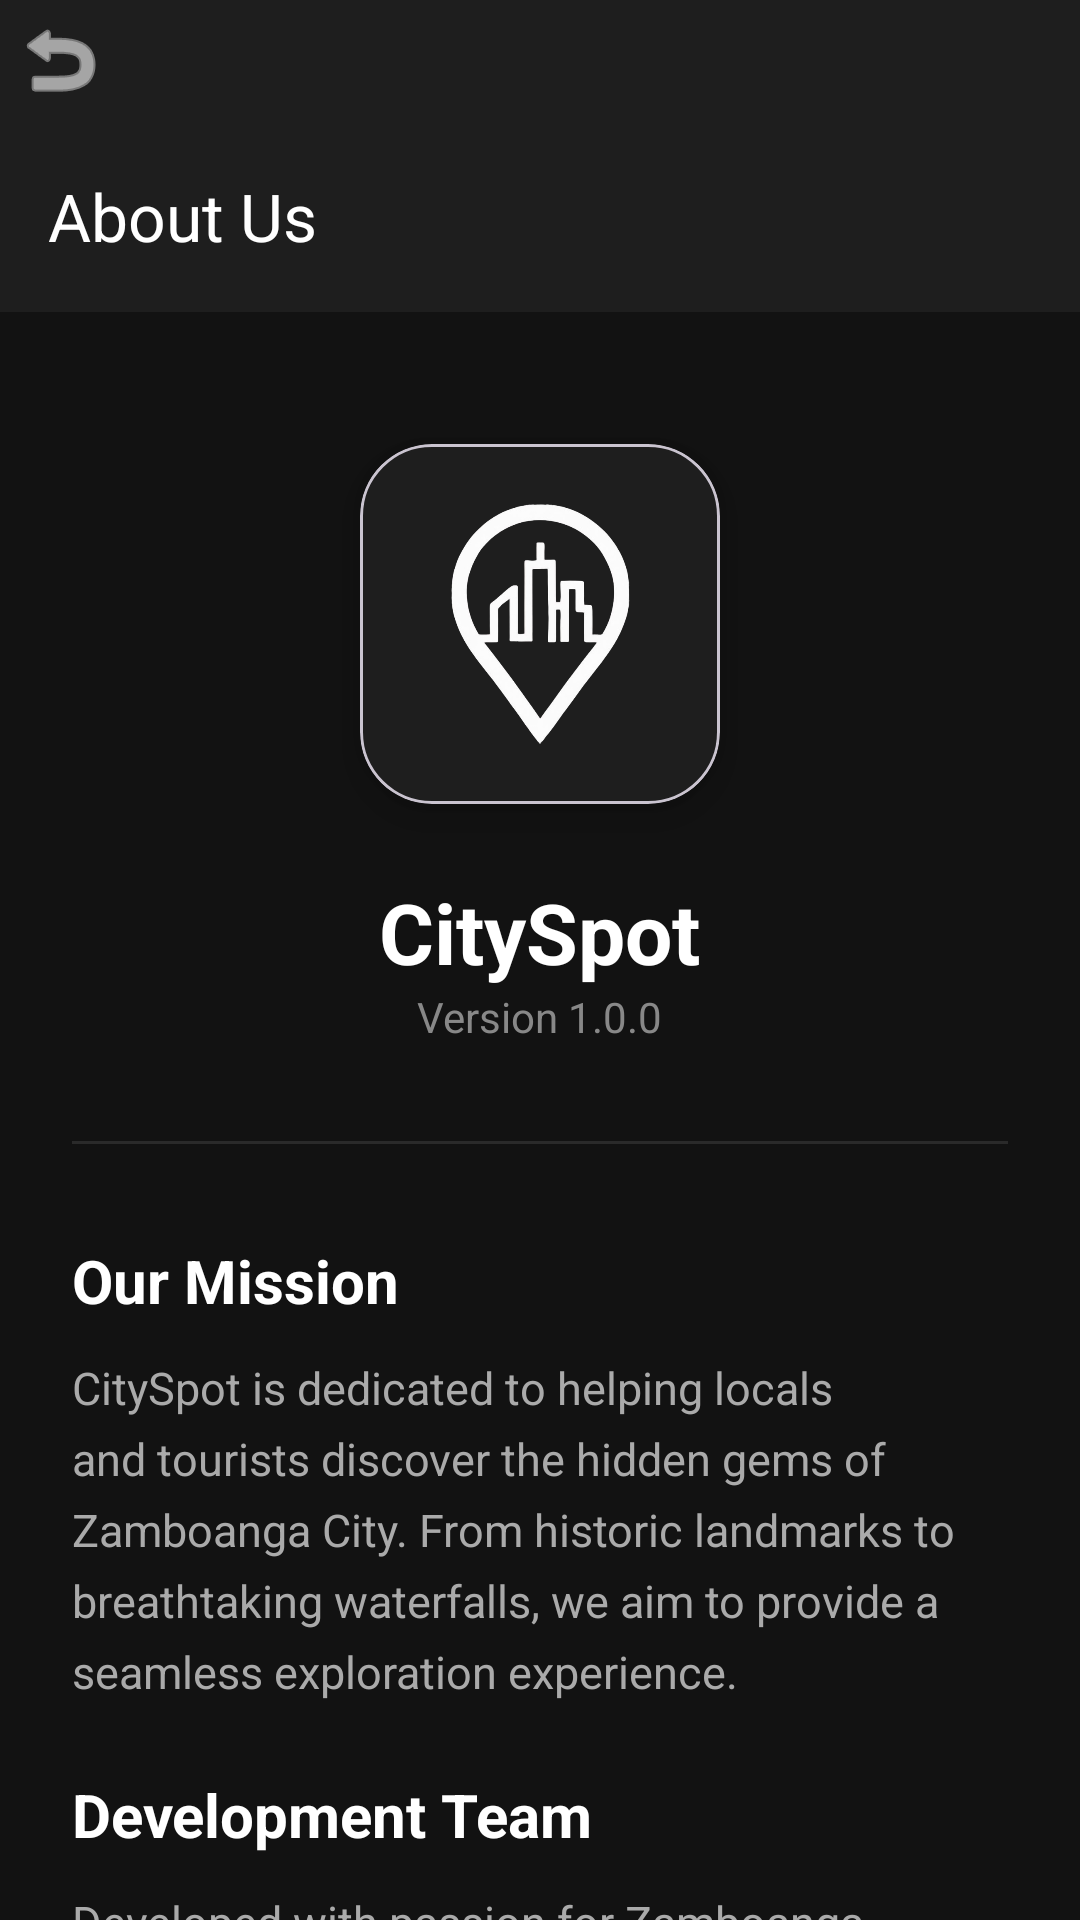

Icons on this 1080 × 1920 Android screen, each with its box as box=[x1, y1, x2, y2]:
revert: box=[27, 29, 96, 92]
